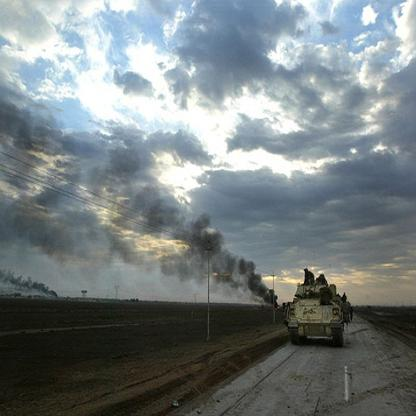Tank: (280, 264, 355, 351)
